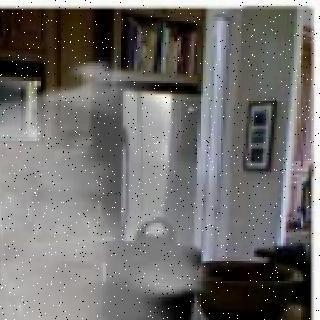smoke: (0, 86, 193, 320)
